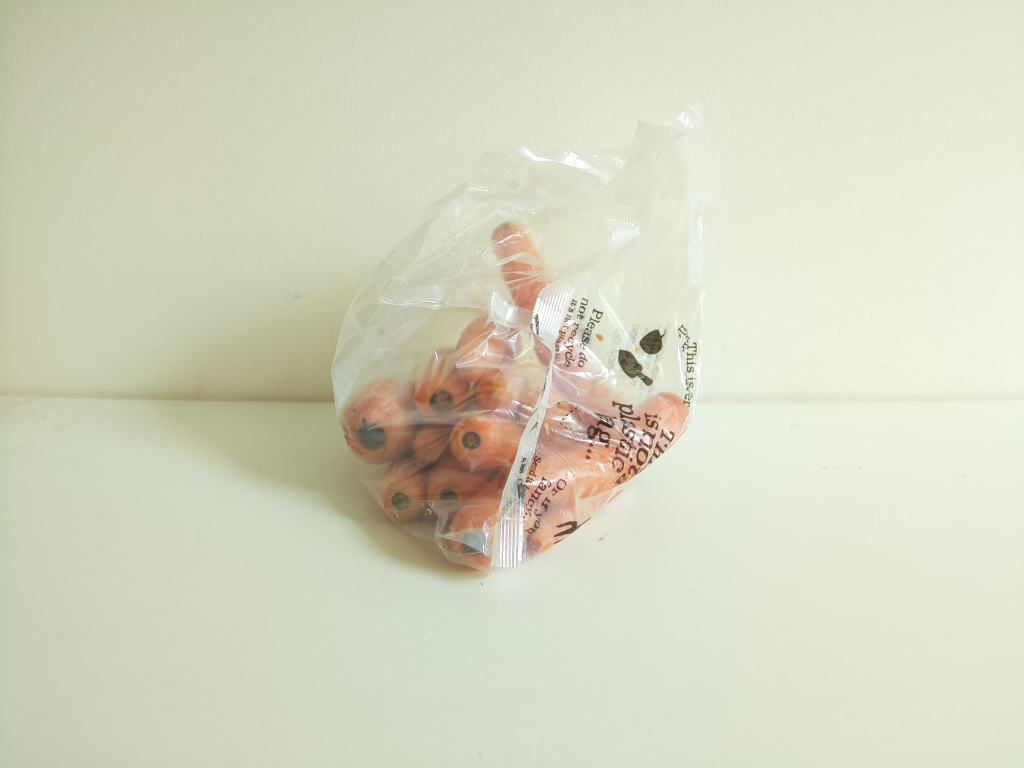carrot: (342, 221, 691, 570)
